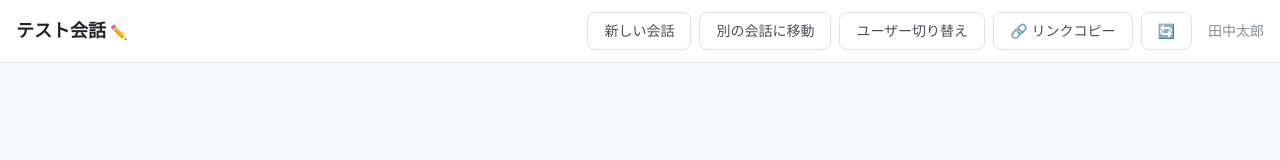
Test: ChatHeader › タイトルクリックで編集モードに切り替わる
The width and height of the screenshot is (1280, 160).
# タイトルをクリック
Click the button "テスト会話✏️". click: (72, 31)
box: [16,17,128,45]
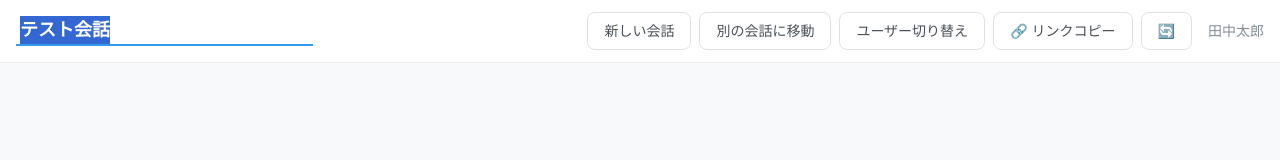
Expected: the field named "会話タイトルを編集" is shown, [16,16,313,46]
